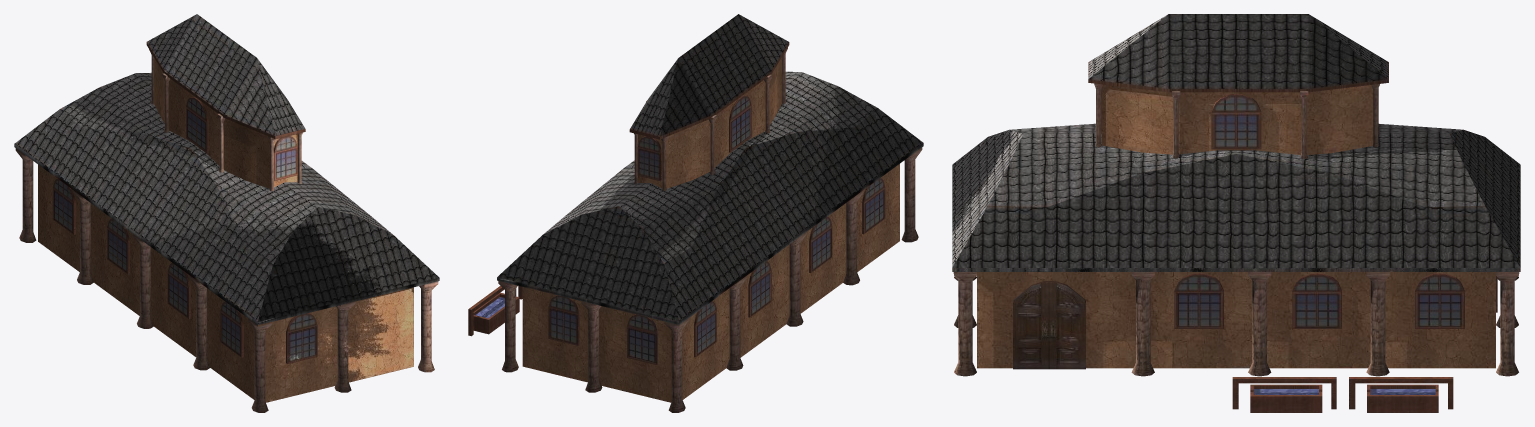
The model's file is Estalagem.fbx.
The picture shows the model from 3 angles, left to right: view 1: azimuth 30°, elevation 25°; view 2: azimuth 150°, elevation 25°; view 3: azimuth 270°, elevation 25°; orthographic projection. The views are drawn at different scales.
Visible parts, largest first — view 1: Gom_Estalagem_00; view 2: Gom_Estalagem_00; view 3: Gom_Estalagem_00.
Part boxes in pixels (x1,y1,x2,y2): Gom_Estalagem_00: (14,14,439,412); Gom_Estalagem_00: (468,14,923,412); Gom_Estalagem_00: (952,14,1520,412).
Bounding box in the file's own units: 8.65 × 9 × 14.87.
